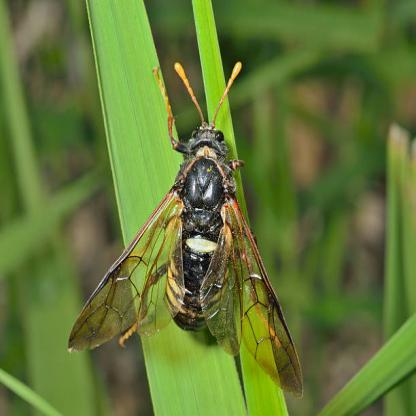sawfly: (61, 56, 309, 398)
